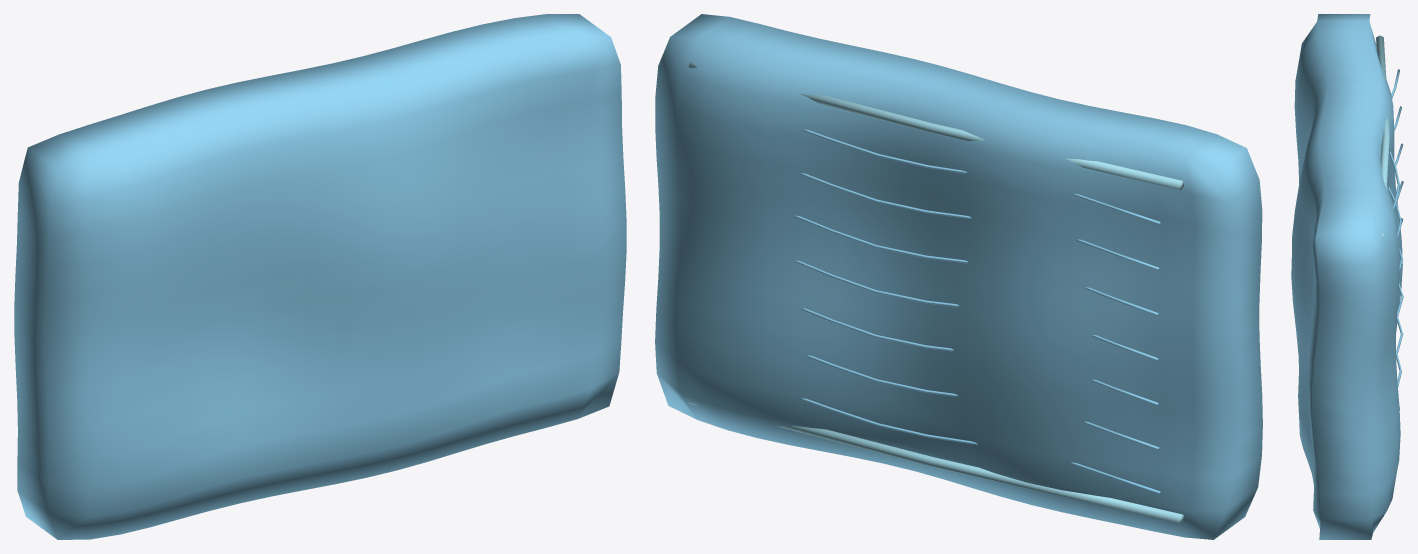
File: towel_microfiber.glb
3 views of the same model, side by side, from view 1: azimuth 30°, elevation 25°; view 2: azimuth 150°, elevation 25°; view 3: azimuth 270°, elevation 25° (orthographic). The views are drawn at different scales.
Visible parts, largest first — view 1: Body; view 2: Body; view 3: Body.
Boxes of the visible parts, bbox=[...] form: Body: bbox=[14, 14, 626, 539]; Body: bbox=[655, 14, 1262, 539]; Body: bbox=[1291, 14, 1403, 539].
Bounding box in the file's own units: 0.28 × 0.18 × 0.0574.
2 materials, 2 textured.
